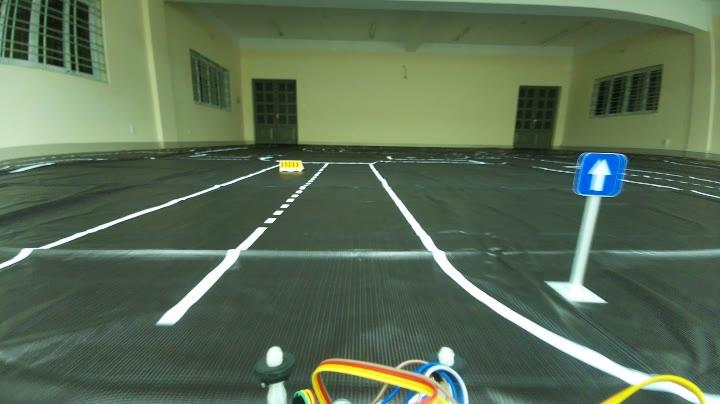onewayroad: (574, 150, 622, 198)
roadblock: (274, 158, 310, 172)
